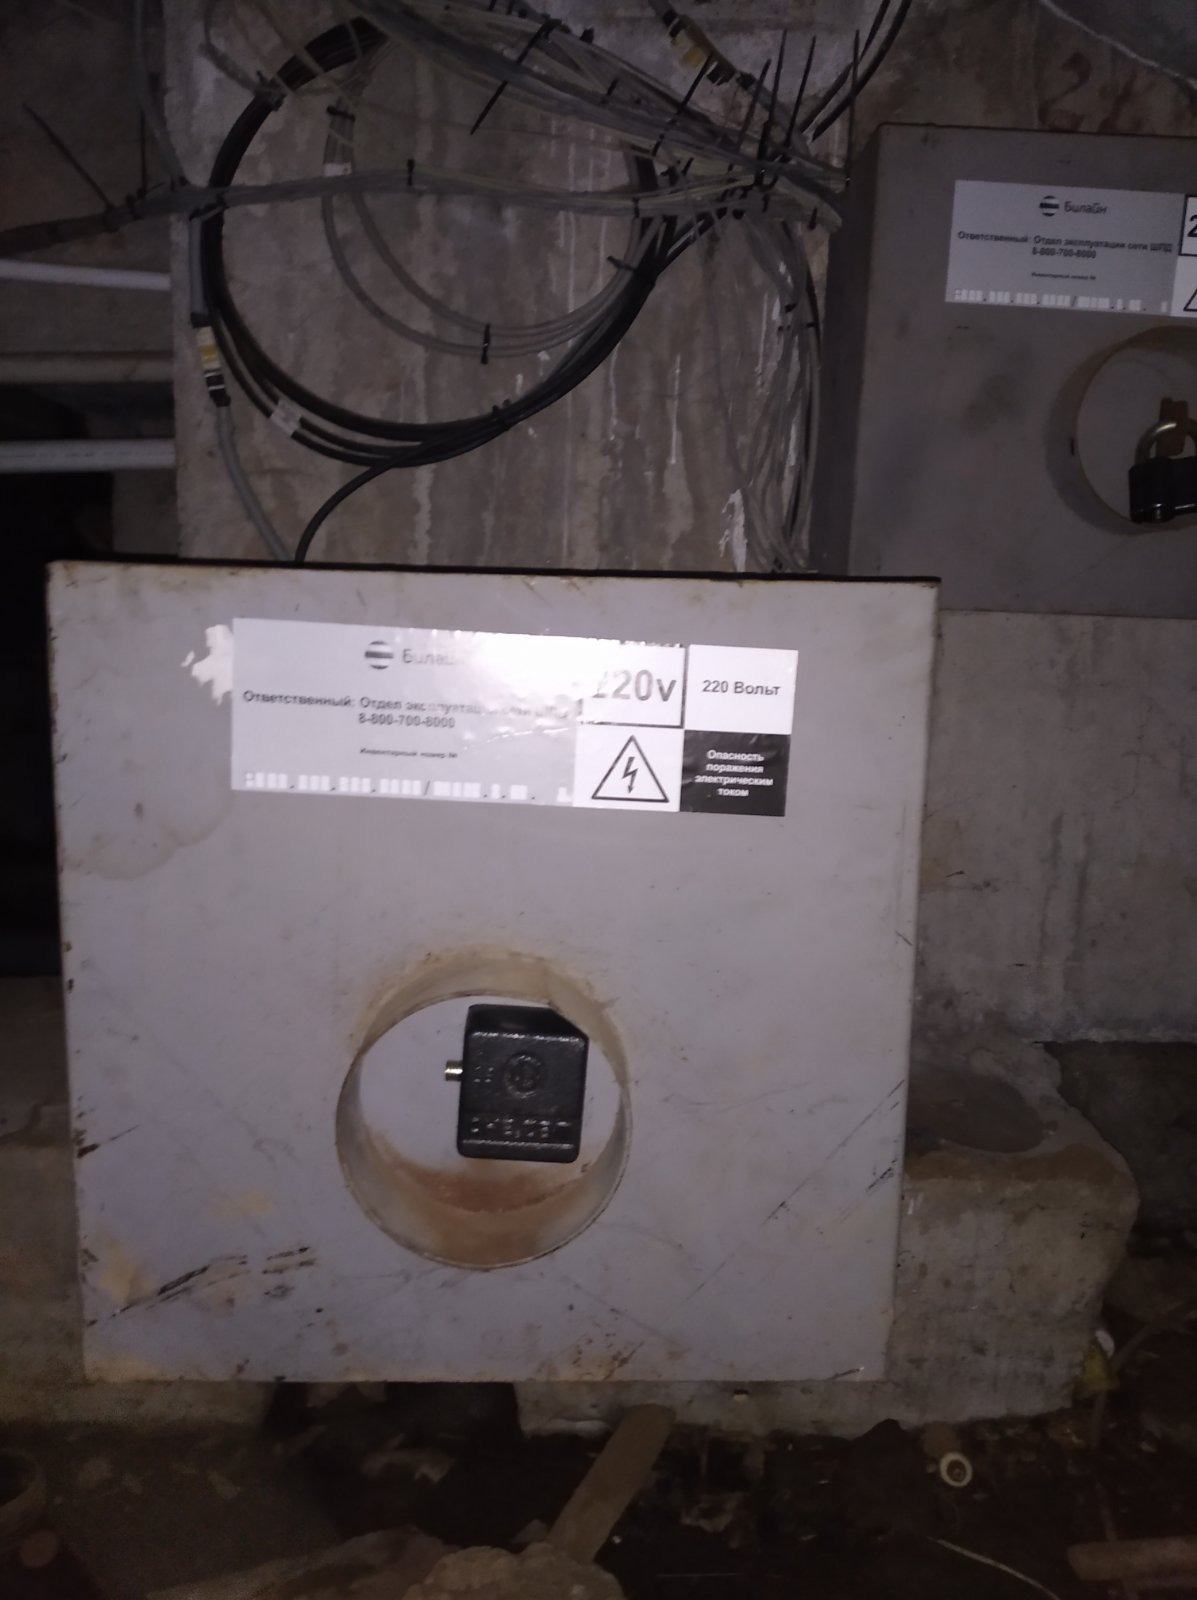shta-3: (826, 106, 1181, 623)
shta-9: (33, 530, 942, 1409)
